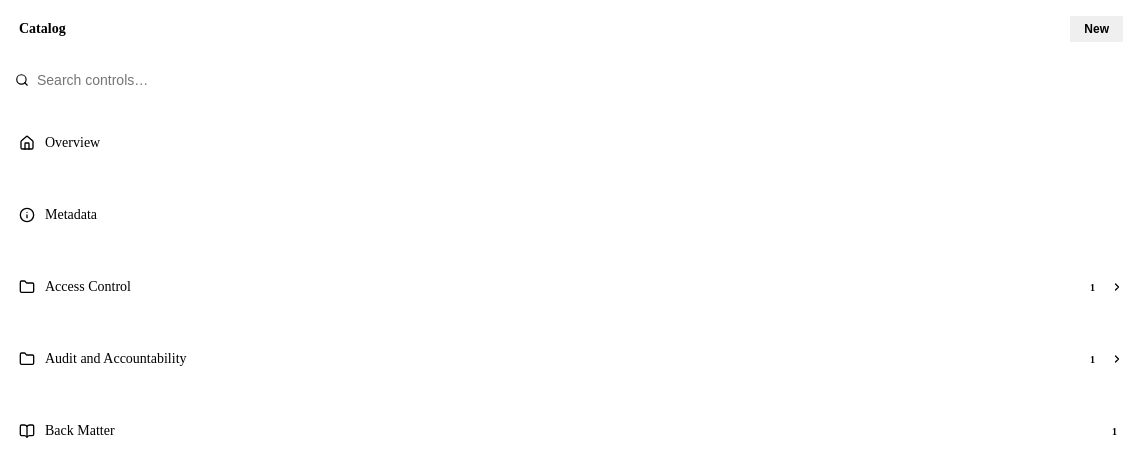
Scenario: CatalogPage Markdown prose (issue #104) › renders the prose's Markdown, with parameter pills inside it
What coordinates should you click on to do the following:
click the text "Access Control"
I would click on:
 (88, 286)
Its box is left=45, top=279, right=131, bottom=294.
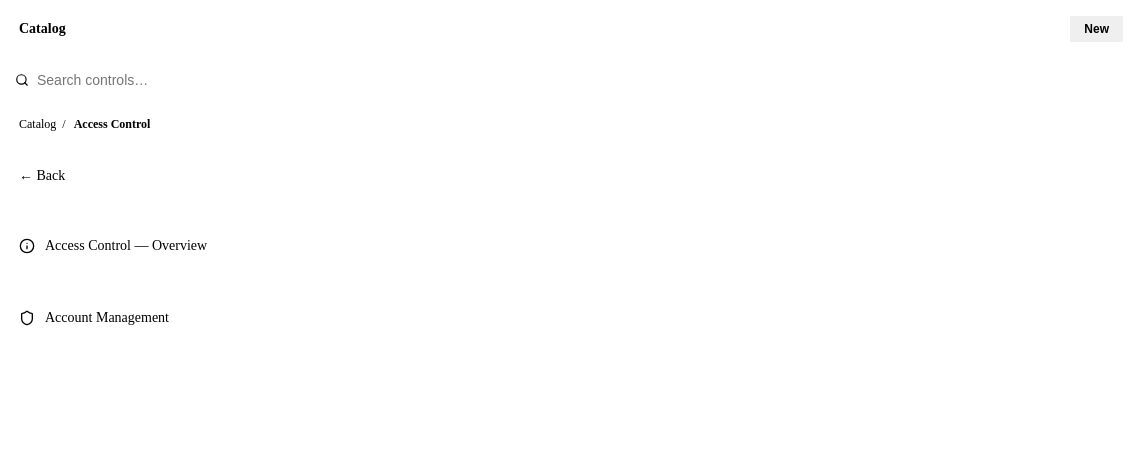
What coordinates should you click on to do the following:
click the text "Account Management"
I would click on:
 (107, 318)
Its box is left=45, top=310, right=169, bottom=325.
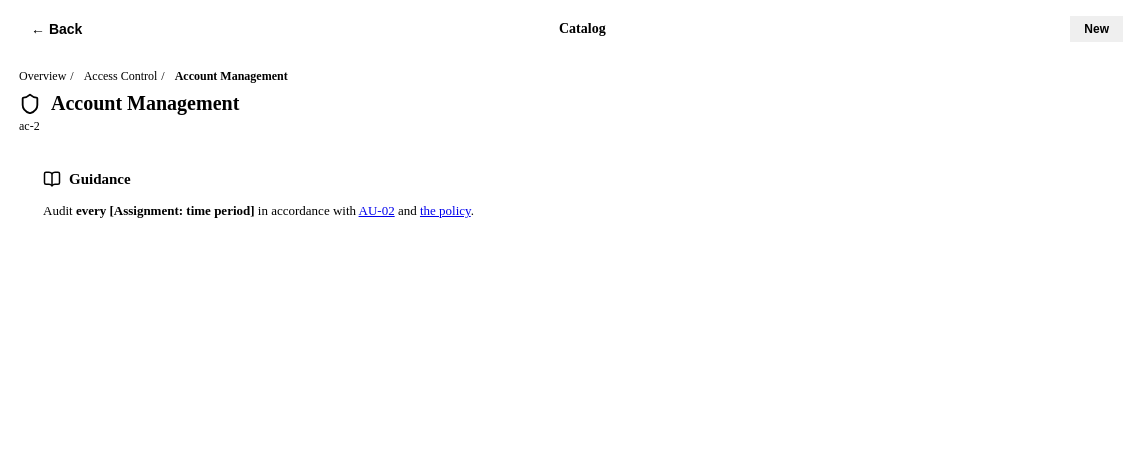
Now the heading "Account Management" is shown, box left=51, top=92, right=239, bottom=115
Now the text "[Assignment: time period]" is shown, box left=109, top=203, right=255, bottom=218
